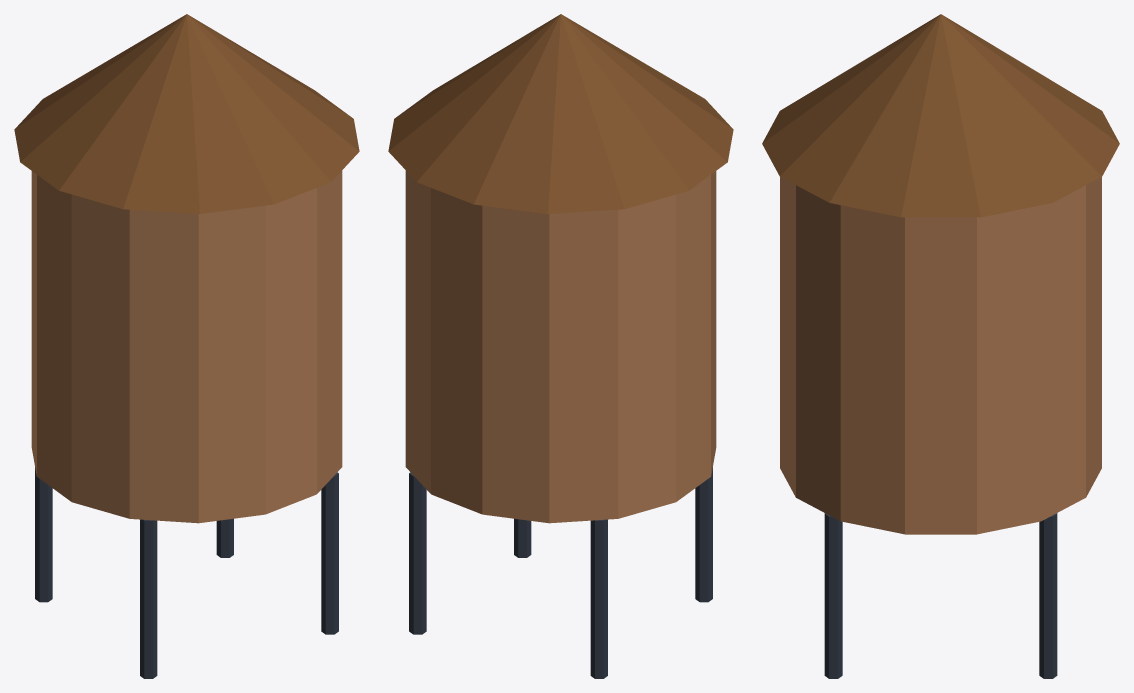
The model's file is Jumping_WaterTank.fbx.
The picture shows the model from 3 angles, left to right: view 1: azimuth 30°, elevation 25°; view 2: azimuth 150°, elevation 25°; view 3: azimuth 270°, elevation 25°; orthographic projection. The views are drawn at different scales.
Parts seen in each view (by area): view 1: WaterTank; view 2: WaterTank; view 3: WaterTank.
Boxes of the visible parts, x1,y1,x2,y2 form: WaterTank: (14, 14, 359, 678); WaterTank: (388, 14, 733, 678); WaterTank: (762, 14, 1119, 678).
Bounding box in the file's own units: 1.95 × 3.8 × 2.
